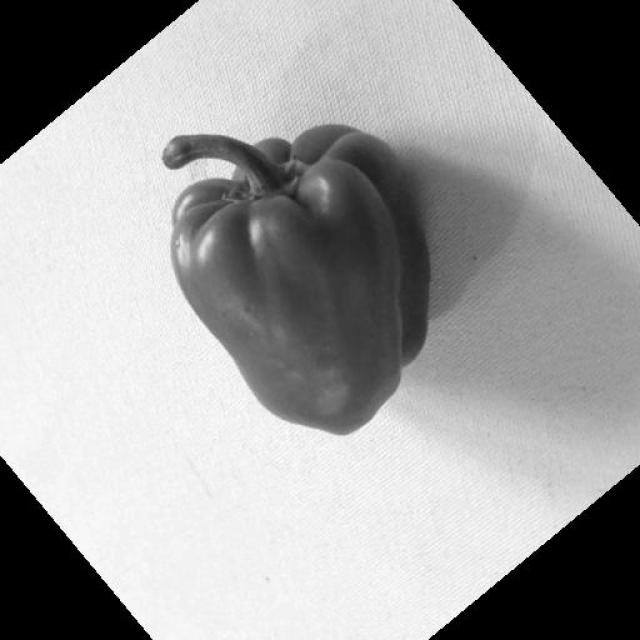Fresh_Capsicum: (140, 151, 457, 429)
